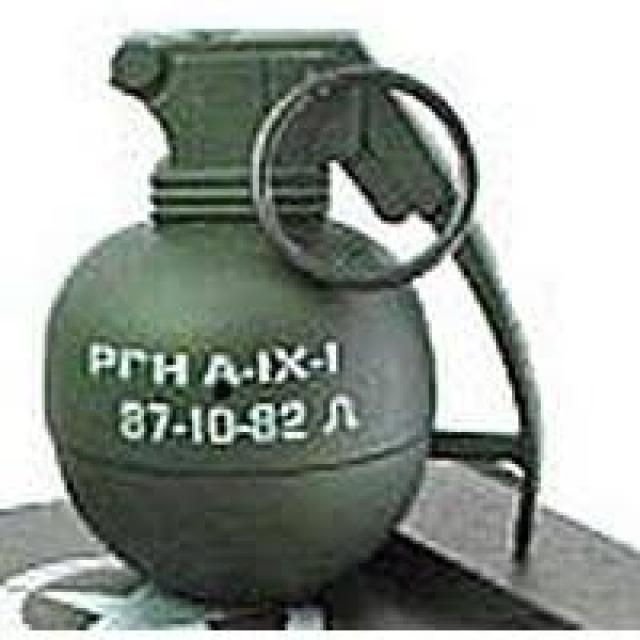grenade: (28, 11, 551, 598)
